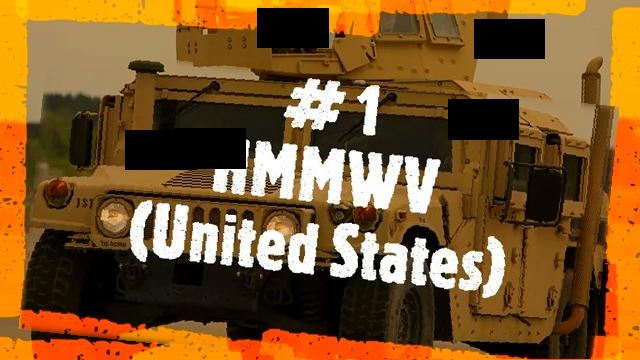MIL_HMMWV: (24, 61, 612, 360)
